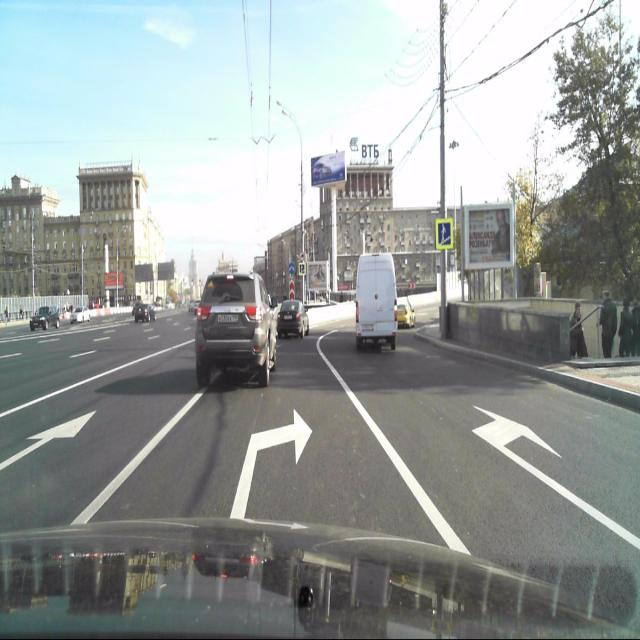road sign: (436, 220, 452, 248)
